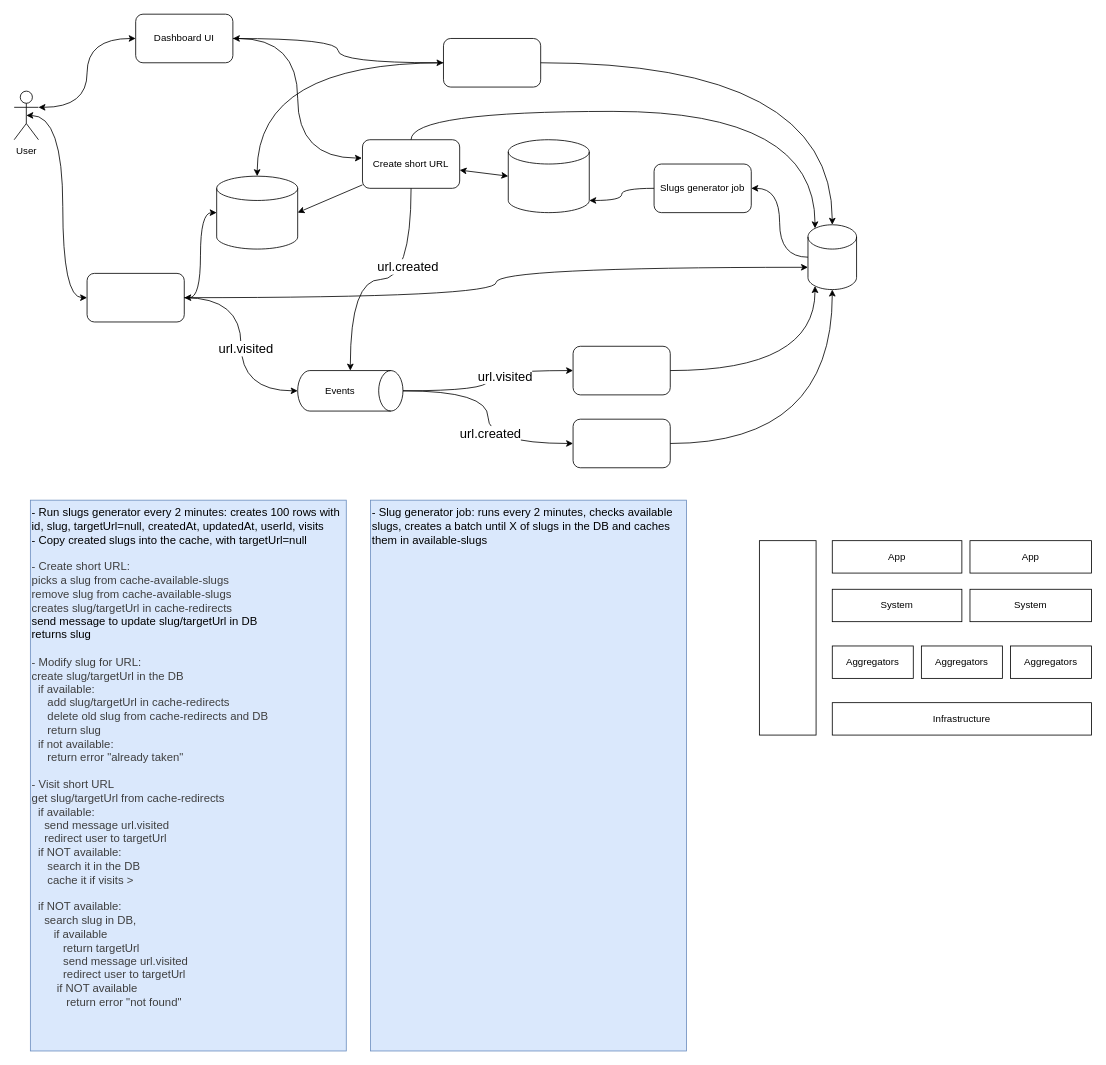
This 1106x1065 diagram has some shape labels left out. The box of each missing label's shape, as (x1, y1, x2, y2) in pixels:
Cache [available slugs]: (507, 139, 589, 213)
Cache [redirects]: (216, 175, 298, 249)
DB: (807, 224, 857, 290)
DTOs: (759, 540, 816, 735)
Modify slug for URL: (443, 38, 541, 87)
Update analytics: (572, 345, 670, 395)
Update targetUrl: (572, 418, 670, 468)
Visit short URL: (86, 273, 184, 322)
